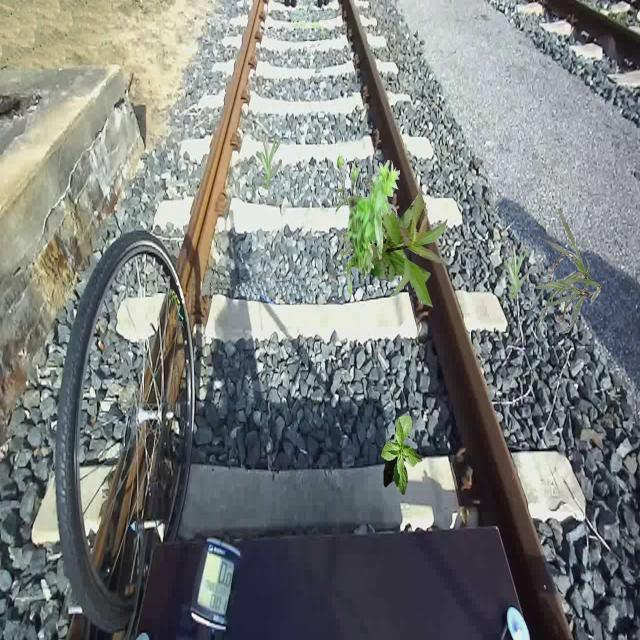Plant: (361, 178, 449, 308), (336, 152, 401, 296), (530, 209, 603, 334), (381, 416, 423, 496), (503, 243, 530, 300), (256, 133, 282, 190)
